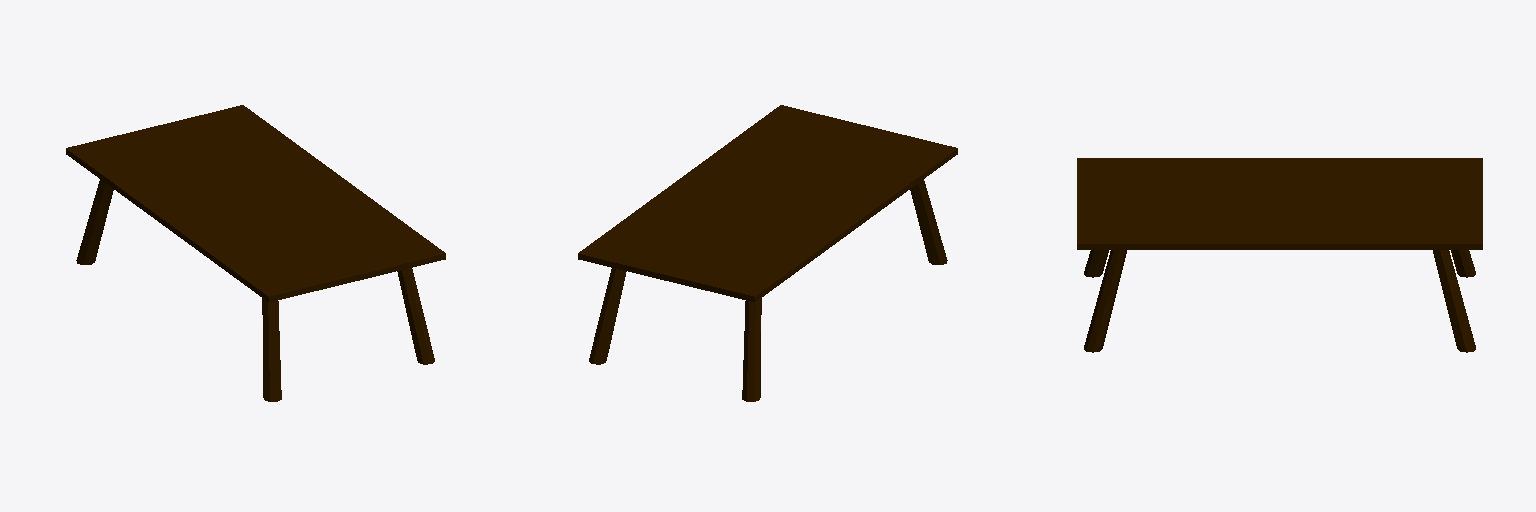
File: 03NewTable.obj
3 views of the same model, side by side, from view 1: azimuth 30°, elevation 25°; view 2: azimuth 150°, elevation 25°; view 3: azimuth 270°, elevation 25° (orthographic).
Parts seen in each view (by area): view 1: TableMesh; view 2: TableMesh; view 3: TableMesh.
Part boxes in pixels (x1,y1,x2,y2): TableMesh: (66, 105, 445, 401); TableMesh: (578, 105, 957, 401); TableMesh: (1077, 158, 1482, 352).
Size of the model in its own units: 158 by 94.07 by 314.